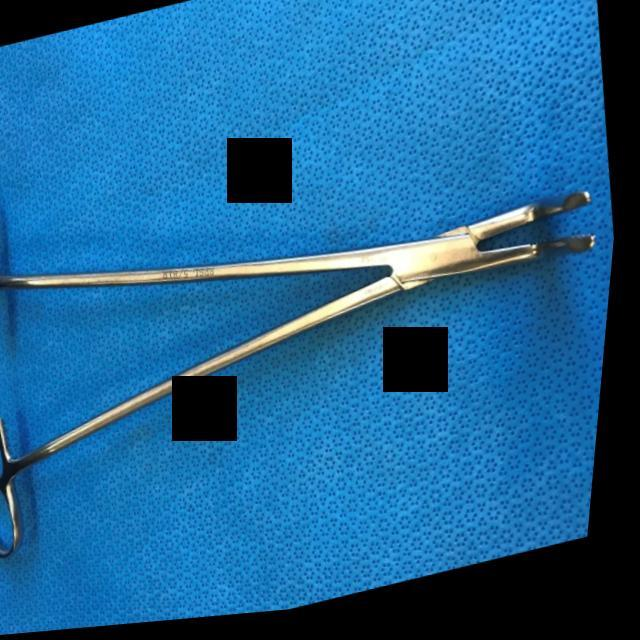Rectangle Cholecystectomy Forceps: (0, 51, 633, 575)
